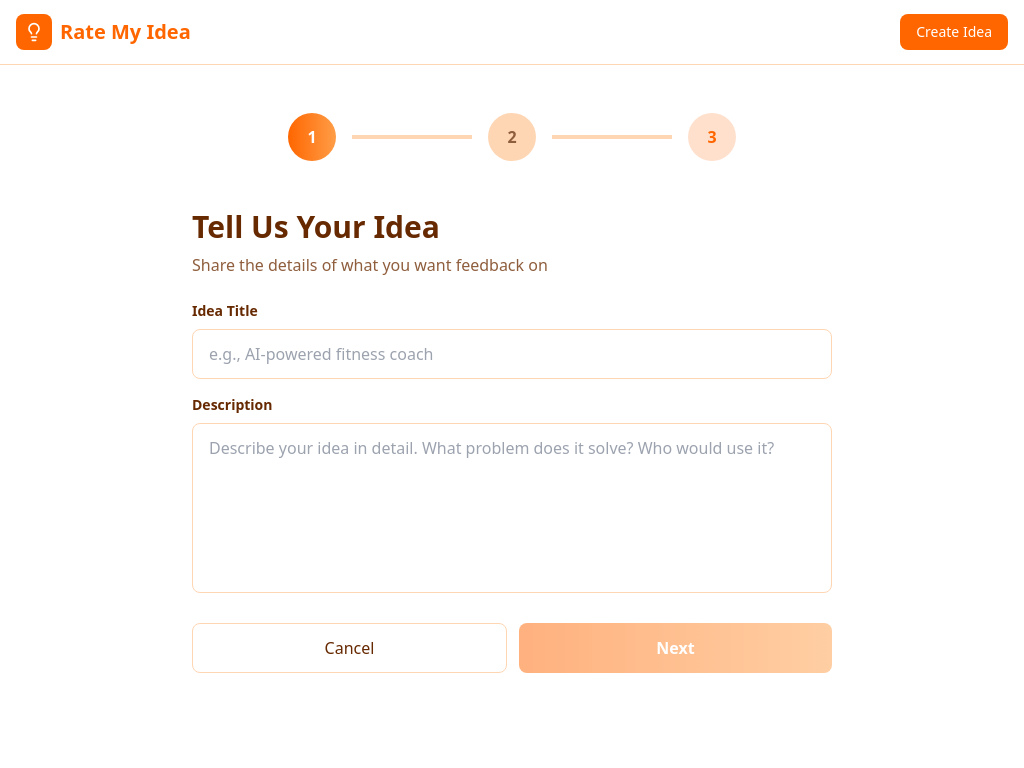
Scenario: CreateIdea Page › handles form submission with valid data
This screenshot has width=1024, height=768.
In the field: (512, 354) [192, 329, 832, 379], type "Test Idea"
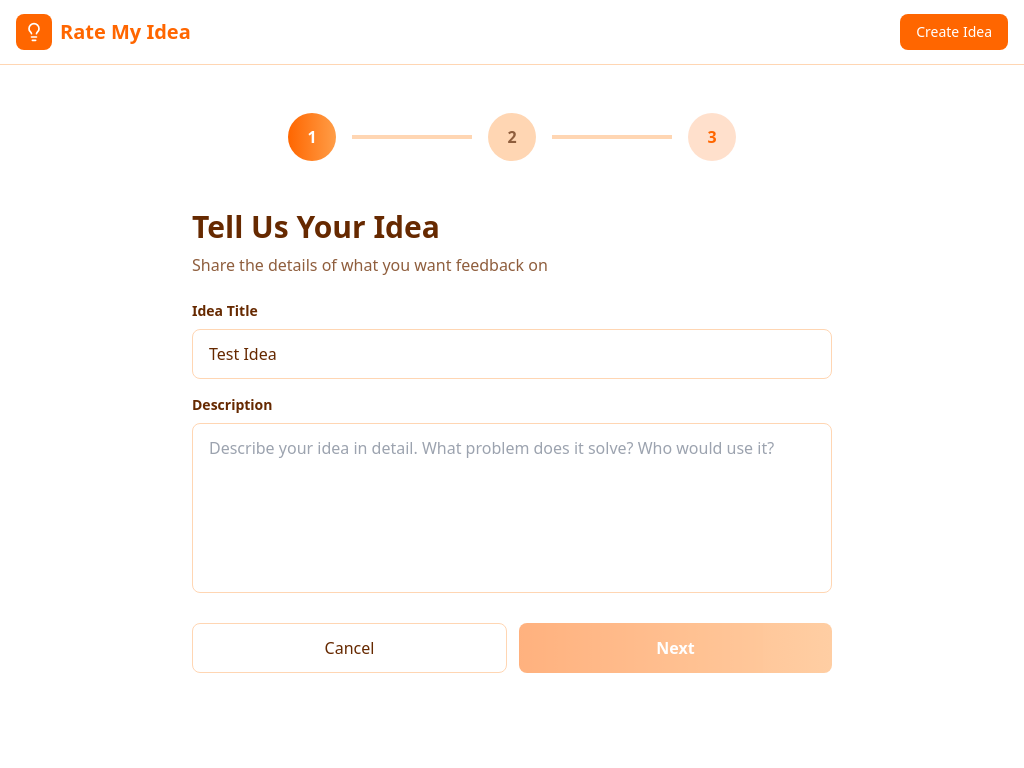
Replace the text in the text box with "Test Description": (512, 508) [192, 423, 832, 593]
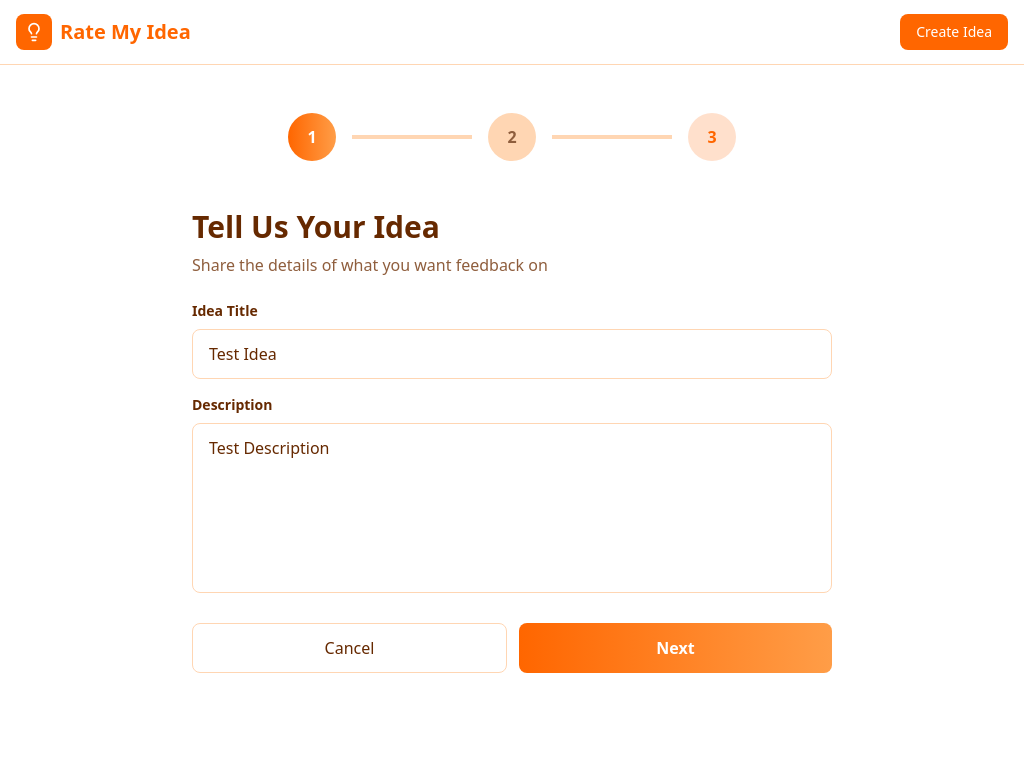
Click the button "Next": (676, 648) [519, 623, 832, 673]
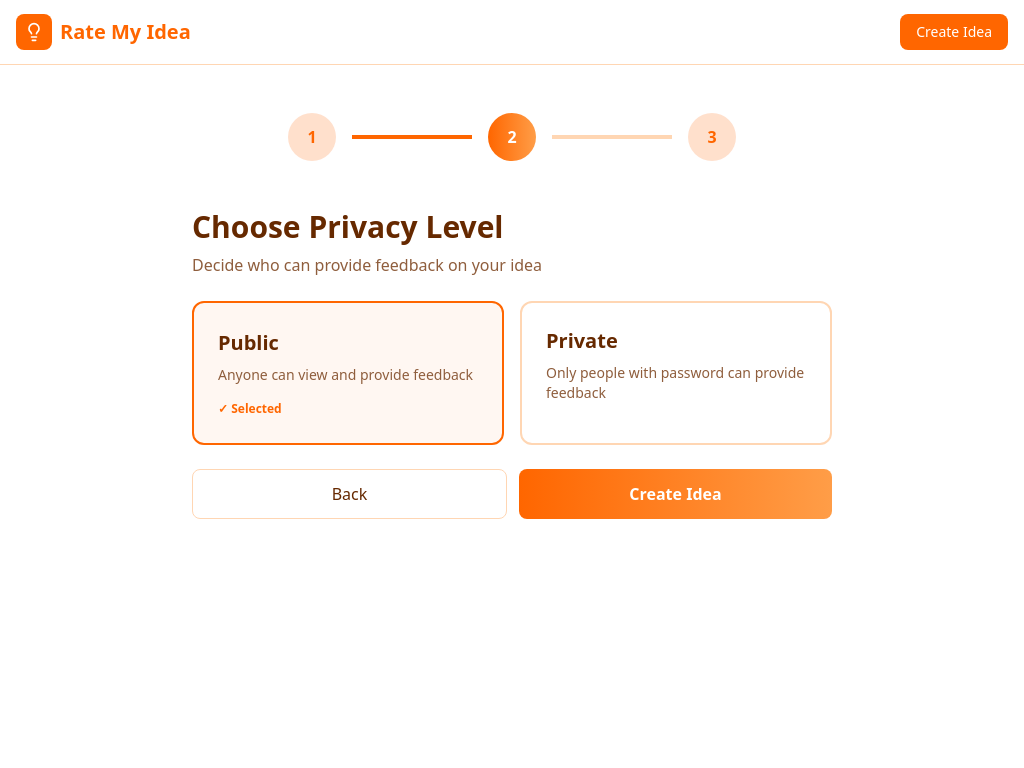
Expected: the button "Public Anyone can view and provide feedback ✓ Selected" is shown, [192, 301, 504, 445]
